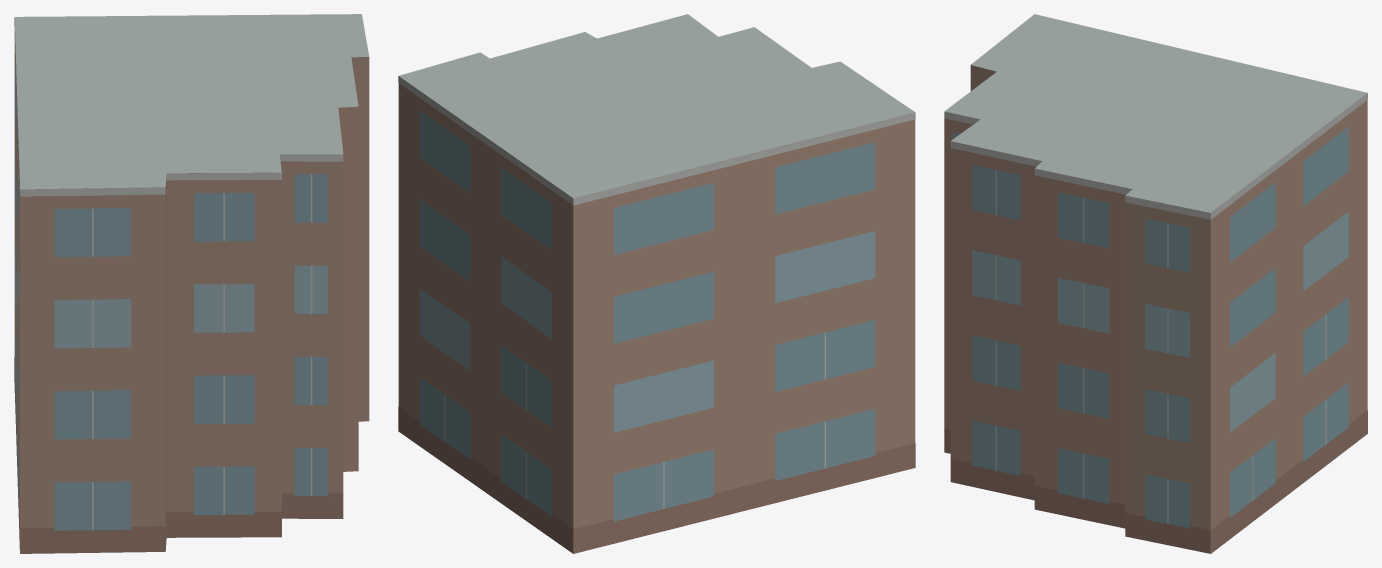
File: survey-upis-32812909.glb
The picture shows the model from 3 angles, left to right: view 1: azimuth 30°, elevation 25°; view 2: azimuth 150°, elevation 25°; view 3: azimuth 270°, elevation 25°; orthographic projection. The views are drawn at different scales.
Parts seen in each view (by area): view 1: survey-upis-32812909.tmp; view 2: survey-upis-32812909.tmp; view 3: survey-upis-32812909.tmp.
Boxes of the visible parts, box(x1,y1,x2,y2) form: survey-upis-32812909.tmp: box(14, 14, 369, 553); survey-upis-32812909.tmp: box(398, 14, 915, 553); survey-upis-32812909.tmp: box(944, 14, 1367, 553).
Size of the model in its own units: 15.28 by 12.2 by 13.75.
